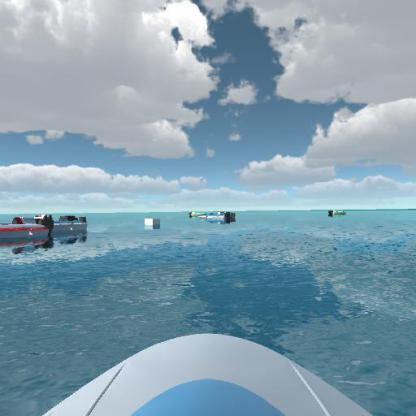usv0: (328, 203, 352, 220), (185, 205, 209, 218)
usv1: (42, 212, 95, 240), (194, 209, 238, 224)
usv3: (0, 206, 55, 254)
